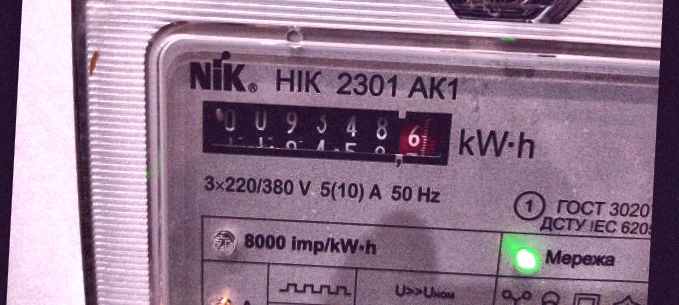0: (252, 107, 268, 131), (222, 105, 236, 132)
3: (313, 109, 328, 136)
4: (343, 111, 358, 138)
6: (404, 121, 423, 149)
8: (372, 113, 389, 142)
9: (282, 109, 298, 135)
screen: (189, 92, 461, 175)
